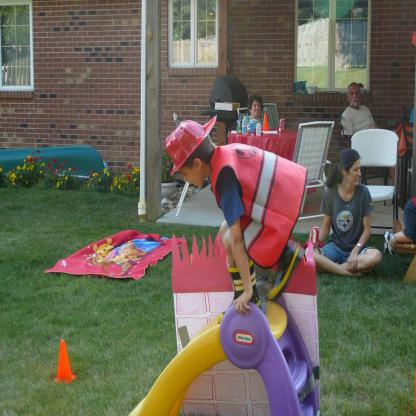face: (179, 163, 207, 189), (347, 162, 362, 187), (349, 87, 361, 107), (252, 102, 262, 118)
